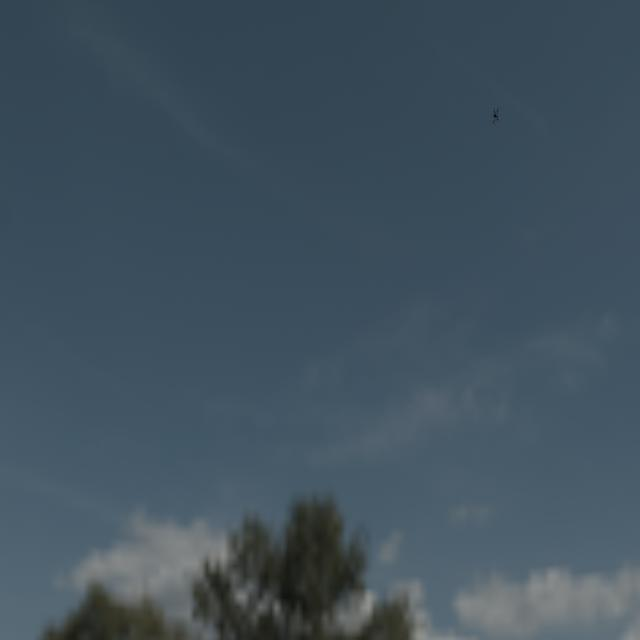drone: (490, 106, 500, 125)
